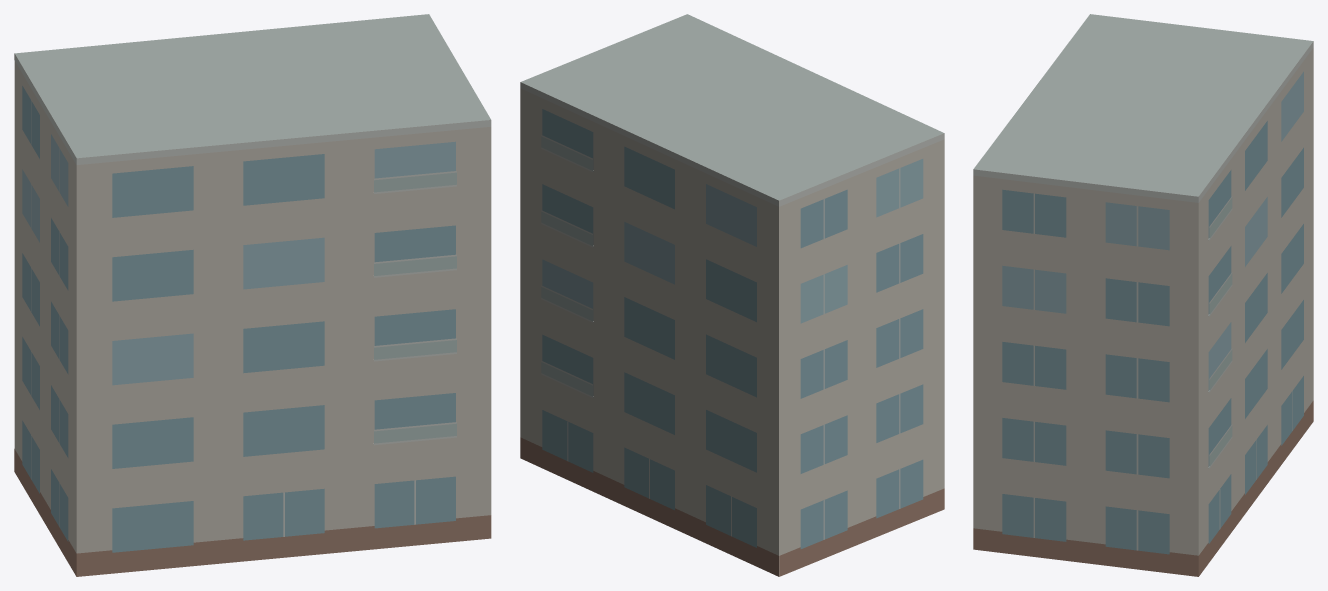
File: survey-upis-32871876.glb
The picture shows the model from 3 angles, left to right: view 1: azimuth 30°, elevation 25°; view 2: azimuth 150°, elevation 25°; view 3: azimuth 270°, elevation 25°; orthographic projection. The views are drawn at different scales.
Visible parts, largest first — view 1: survey-upis-32871876.tmp; view 2: survey-upis-32871876.tmp; view 3: survey-upis-32871876.tmp.
Part boxes in pixels (x1,y1,x2,y2): survey-upis-32871876.tmp: [14, 14, 491, 576]; survey-upis-32871876.tmp: [520, 14, 944, 576]; survey-upis-32871876.tmp: [973, 14, 1313, 576].
Bounding box in the file's own units: 15.37 × 14.9 × 12.1.
